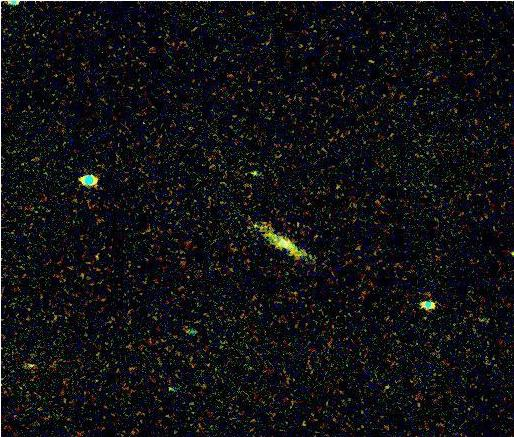star: (20, 350, 50, 380)
